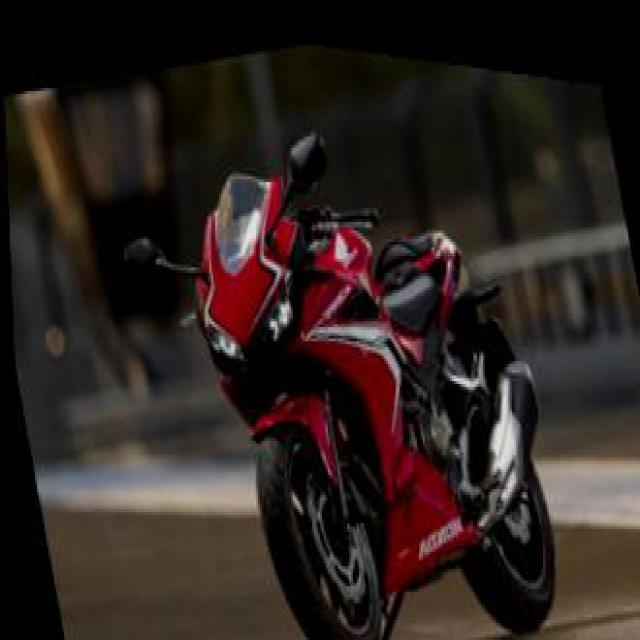CBR500R: (99, 37, 593, 637)
